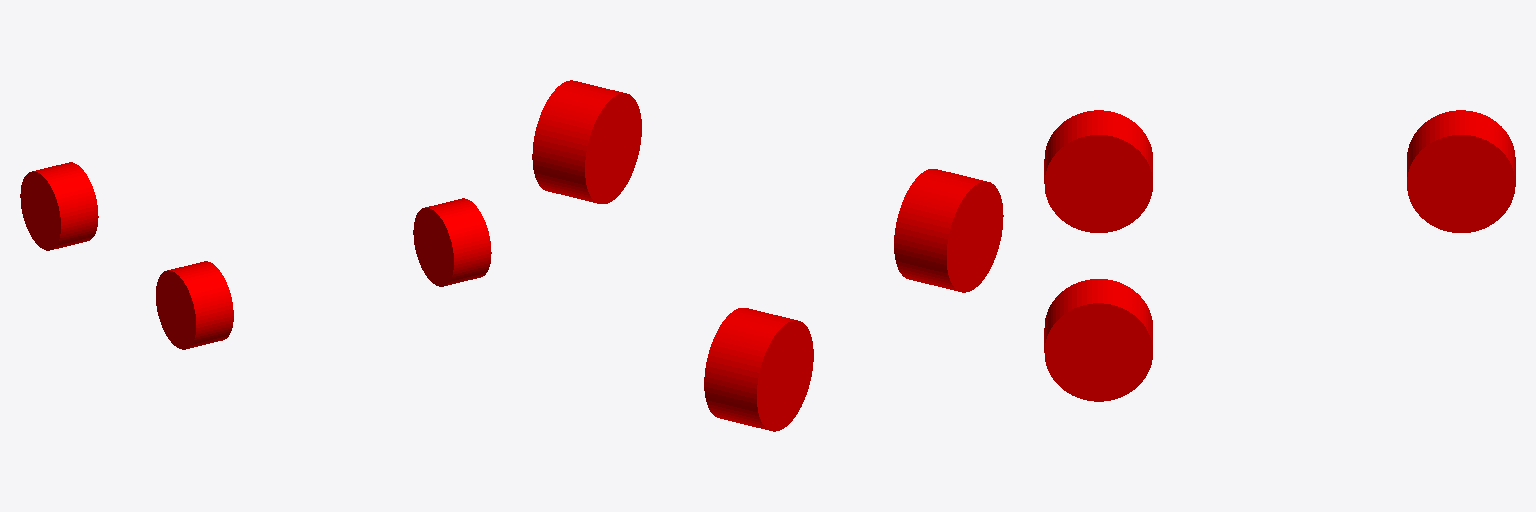
robot.urdf — simple_cuboid_4727g:
<?xml version="1.0" ?>
<robot name="simple_cuboid_4727g">
<link name="base_link">
  <inertial>
    <origin rpy="0 0 0" xyz="0.0 0.0 0.06000000000000001"/>
    <mass value="3.7505087999999995"/>
    <inertia ixx="0.021034" ixy="-0.0" ixz="-0.0" iyy="0.011722" iyz="0.0" izz="0.023754"/>
  </inertial>
  <visual>
    <origin rpy="0 0 0" xyz="0 0 0"/>
    <geometry>
      <mesh filename="bin_stl/base_link_m-binary.stl"/>
    </geometry>
    <material name="silver">
      <color rgba="1 0 0 1"/>
    </material>
  </visual>
  <collision>
    <origin rpy="0 0 0" xyz="0 0 0"/>
    <geometry>
      <mesh filename="bin_stl/base_link_m-binary.stl"/>
    </geometry>
  </collision>
</link>
<link name="BL_1">
  <inertial>
    <origin rpy="0 0 0" xyz="-0.016000000000000014 1.3877787807814457e-17 -6.938893903907228e-18"/>
    <mass value="0.24429024474314232"/>
    <inertia ixx="0.00011" ixy="0.0" ixz="0.0" iyy="7.6e-05" iyz="0.0" izz="7.6e-05"/>
  </inertial>
  <visual>
    <origin rpy="0 0 0" xyz="0.094 -0.1 -0.015"/>
    <geometry>
      <mesh filename="bin_stl/BL_1_m-binary.stl"/>
    </geometry>
    <material name="silver">
      <color rgba="1 0 0 1"/>
    </material>
  </visual>
  <collision>
    <origin rpy="0 0 0" xyz="0.094 -0.1 -0.015"/>
    <geometry>
      <mesh filename="bin_stl/BL_1_m-binary.stl"/>
    </geometry>
  </collision>
</link>
<link name="BR_1">
  <inertial>
    <origin rpy="0 0 0" xyz="0.015999999999999986 1.3877787807814457e-17 -6.938893903907228e-18"/>
    <mass value="0.24429024474314232"/>
    <inertia ixx="0.00011" ixy="0.0" ixz="0.0" iyy="7.6e-05" iyz="0.0" izz="7.6e-05"/>
  </inertial>
  <visual>
    <origin rpy="0 0 0" xyz="-0.094 -0.1 -0.015"/>
    <geometry>
      <mesh filename="bin_stl/BR_1_m-binary.stl"/>
    </geometry>
    <material name="silver">
      <color rgba="1 0 0 1"/>
    </material>
  </visual>
  <collision>
    <origin rpy="0 0 0" xyz="-0.094 -0.1 -0.015"/>
    <geometry>
      <mesh filename="bin_stl/BR_1_m-binary.stl"/>
    </geometry>
  </collision>
</link>
<link name="FR_1">
  <inertial>
    <origin rpy="0 0 0" xyz="0.015999999999999986 2.7755575615628914e-17 2.0816681711721685e-17"/>
    <mass value="0.24429024474314232"/>
    <inertia ixx="0.00011" ixy="0.0" ixz="0.0" iyy="7.6e-05" iyz="0.0" izz="7.6e-05"/>
  </inertial>
  <visual>
    <origin rpy="0 0 0" xyz="-0.094 0.1 -0.015"/>
    <geometry>
      <mesh filename="bin_stl/FR_1_m-binary.stl"/>
    </geometry>
    <material name="silver">
      <color rgba="1 0 0 1"/>
    </material>
  </visual>
  <collision>
    <origin rpy="0 0 0" xyz="-0.094 0.1 -0.015"/>
    <geometry>
      <mesh filename="bin_stl/FR_1_m-binary.stl"/>
    </geometry>
  </collision>
</link>
<link name="FL_1">
  <inertial>
    <origin rpy="0 0 0" xyz="-0.016000000000000014 2.7755575615628914e-17 1.9081958235744878e-17"/>
    <mass value="0.24429024474314232"/>
    <inertia ixx="0.00011" ixy="-0.0" ixz="0.0" iyy="7.6e-05" iyz="0.0" izz="7.6e-05"/>
  </inertial>
  <visual>
    <origin rpy="0 0 0" xyz="0.094 0.1 -0.015"/>
    <geometry>
      <mesh filename="bin_stl/FL_1_m-binary.stl"/>
    </geometry>
    <material name="silver">
      <color rgba="1 0 0 1"/>
    </material>
  </visual>
  <collision>
    <origin rpy="0 0 0" xyz="0.094 0.1 -0.015"/>
    <geometry>
      <mesh filename="bin_stl/FL_1_m-binary.stl"/>
    </geometry>
  </collision>
</link>
<joint name="BL" type="continuous">
  <origin rpy="0 0 0" xyz="-0.094 0.1 0.015"/>
  <parent link="base_link"/>
  <child link="BL_1"/>
  <axis xyz="-1.0 0.0 0.0"/>
</joint>
<transmission name="BL_tran">
  <type>transmission_interface/SimpleTransmission</type>
  <joint name="BL">
    <hardwareInterface>PositionJointInterface</hardwareInterface>
  </joint>
  <actuator name="BL_actr">
    <hardwareInterface>PositionJointInterface</hardwareInterface>
    <mechanicalReduction>1</mechanicalReduction>
  </actuator>
</transmission>
<joint name="BR" type="continuous">
  <origin rpy="0 0 0" xyz="0.094 0.1 0.015"/>
  <parent link="base_link"/>
  <child link="BR_1"/>
  <axis xyz="-1.0 0.0 0.0"/>
</joint>
<transmission name="BR_tran">
  <type>transmission_interface/SimpleTransmission</type>
  <joint name="BR">
    <hardwareInterface>PositionJointInterface</hardwareInterface>
  </joint>
  <actuator name="BR_actr">
    <hardwareInterface>PositionJointInterface</hardwareInterface>
    <mechanicalReduction>1</mechanicalReduction>
  </actuator>
</transmission>
<joint name="FR" type="continuous">
  <origin rpy="0 0 0" xyz="0.094 -0.1 0.015"/>
  <parent link="base_link"/>
  <child link="FR_1"/>
  <axis xyz="-1.0 0.0 0.0"/>
</joint>
<transmission name="FR_tran">
  <type>transmission_interface/SimpleTransmission</type>
  <joint name="FR">
    <hardwareInterface>PositionJointInterface</hardwareInterface>
  </joint>
  <actuator name="FR_actr">
    <hardwareInterface>PositionJointInterface</hardwareInterface>
    <mechanicalReduction>1</mechanicalReduction>
  </actuator>
</transmission>
<joint name="FL" type="continuous">
  <origin rpy="0 0 0" xyz="-0.094 -0.1 0.015"/>
  <parent link="base_link"/>
  <child link="FL_1"/>
  <axis xyz="-1.0 0.0 0.0"/>
</joint>
<transmission name="FL_tran">
  <type>transmission_interface/SimpleTransmission</type>
  <joint name="FL">
    <hardwareInterface>PositionJointInterface</hardwareInterface>
  </joint>
  <actuator name="FL_actr">
    <hardwareInterface>PositionJointInterface</hardwareInterface>
    <mechanicalReduction>1</mechanicalReduction>
  </actuator>
</transmission>
<gazebo>
  <plugin filename="libgazebo_ros_control.so" name="control"/>
</gazebo>
</robot>

--- What the picture shows (computed from the rendered views, not written in the file) ---
Views: 3 orthographic renders of the robot side by side, from view 1: azimuth 30°, elevation 25°; view 2: azimuth 150°, elevation 25°; view 3: azimuth 270°, elevation 25°.
Model simple_cuboid_4727g with 5 links and 4 joints (4 continuous), rooted at base_link, posed every joint at zero.
Links seen in each view (by area): view 1: FL_1, FR_1, BL_1; view 2: FR_1, BL_1, FL_1; view 3: BL_1, FR_1, FL_1.
Boxes of the visible links, x1,y1,x2,y2 form: FL_1: [156, 261, 233, 349]; FR_1: [413, 198, 491, 286]; BL_1: [20, 162, 98, 250]; FR_1: [532, 80, 641, 203]; BL_1: [704, 308, 813, 431]; FL_1: [894, 169, 1003, 292]; BL_1: [1407, 110, 1515, 232]; FR_1: [1044, 279, 1152, 401]; FL_1: [1044, 110, 1152, 232].
Size in the robot's own frame: 0.252 by 0.26 by 0.06 metres.
Meshes: 5 distinct files referenced, 3 mesh visuals loaded (3 binary STL); not drawn: 2 (reference not matched to a file when rendering).
